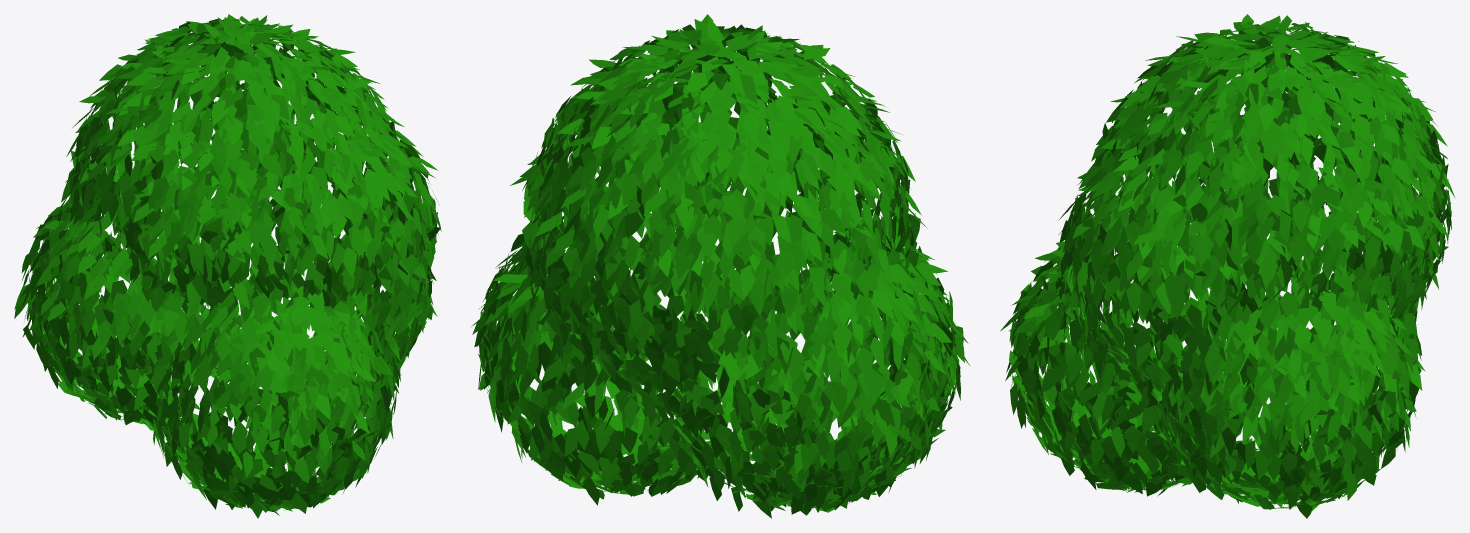
The model's file is tree_leaves.fbx.
3 views of the same model, side by side, from view 1: azimuth 30°, elevation 25°; view 2: azimuth 150°, elevation 25°; view 3: azimuth 270°, elevation 25° (orthographic). The views are drawn at different scales.
Parts seen in each view (by area): view 1: LeavesMesh001; view 2: LeavesMesh001; view 3: LeavesMesh001.
Boxes of the visible parts, x1,y1,x2,y2 form: LeavesMesh001: (14,14,441,518); LeavesMesh001: (471,14,969,518); LeavesMesh001: (1000,14,1454,518).
Bounding box in the file's own units: 2.03 × 2.2 × 1.92.
